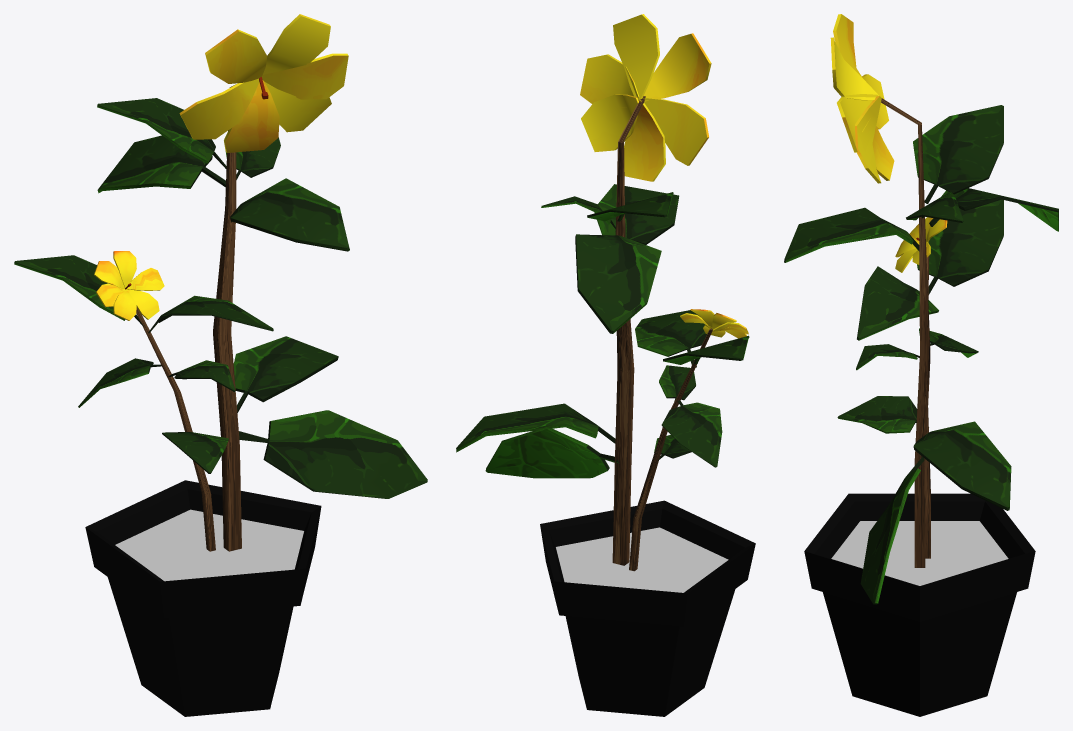
File: FlowerPot.obj
3 renders of one model, left to right at view 1: azimuth 30°, elevation 25°; view 2: azimuth 150°, elevation 25°; view 3: azimuth 270°, elevation 25°, orthographic. The views are drawn at different scales.
Visible parts, largest first — view 1: FlowerPot; view 2: FlowerPot; view 3: FlowerPot.
Boxes of the visible parts, box(x1,y1,x2,y2) form: FlowerPot: box(14, 14, 427, 716); FlowerPot: box(456, 14, 755, 716); FlowerPot: box(784, 14, 1058, 716).
Bounding box in the file's own units: 4.77 × 9.15 × 3.41.
